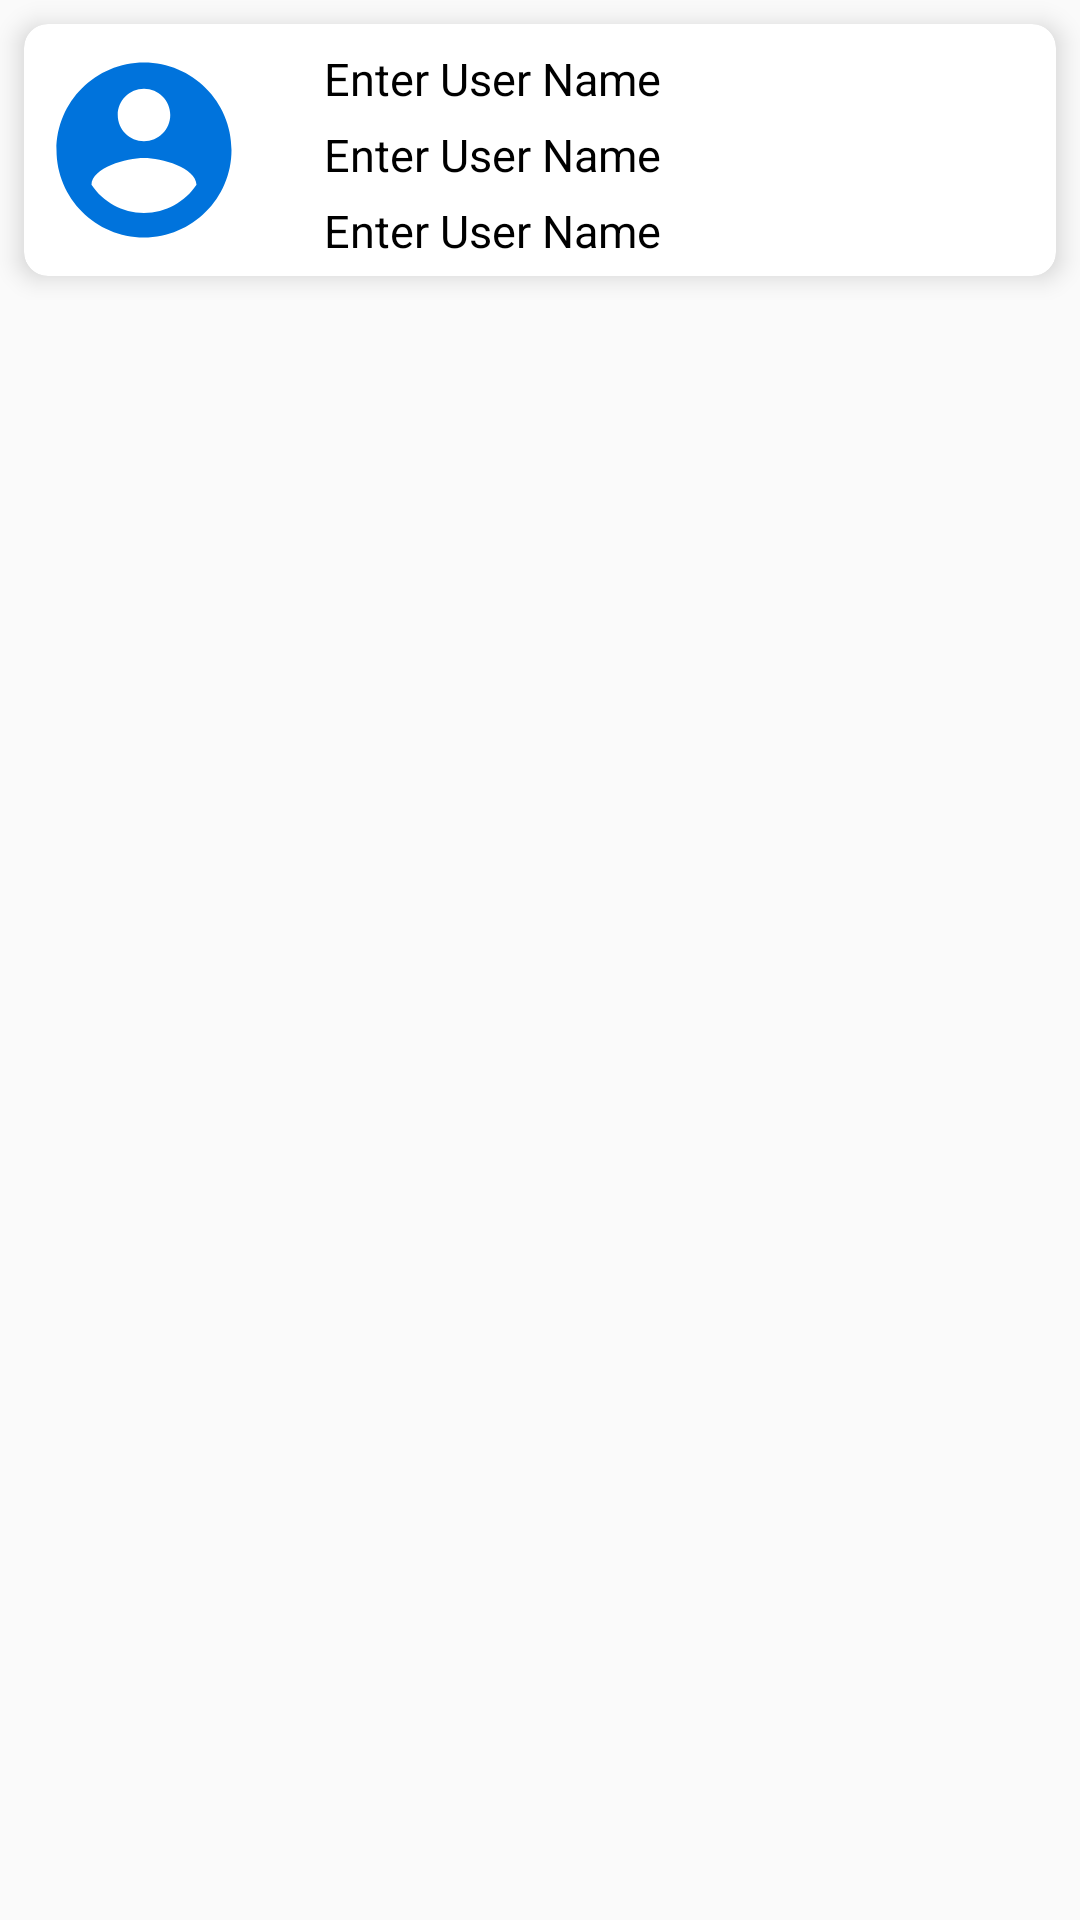

Named icons in this screenshot (1080*1920) and their bounding boxes, box=[x1, y1, x2, y2]:
account: box=[56, 62, 232, 238]
